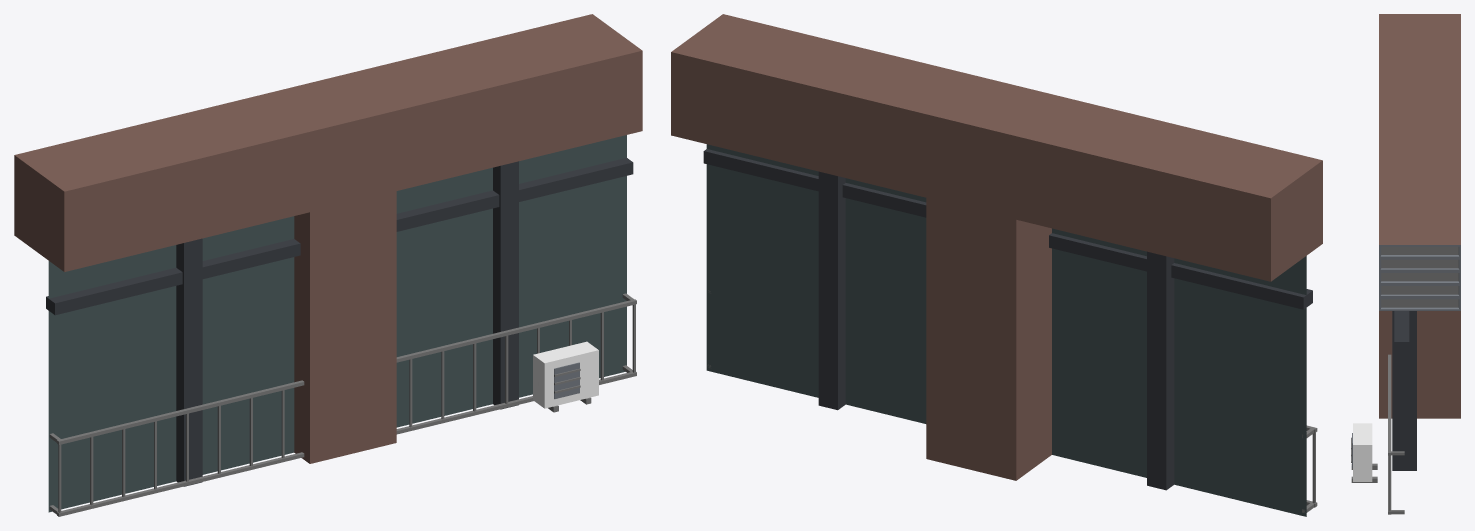
Rendered from mid-w1_close.fbx.
3 renders of one model, left to right at view 1: azimuth 30°, elevation 25°; view 2: azimuth 150°, elevation 25°; view 3: azimuth 270°, elevation 25°, orthographic. The views are drawn at different scales.
Parts seen in each view (by area): view 1: a2009.wall.006; view 2: a2009.wall.006; view 3: a2009.wall.006.
Part boxes in pixels (x1=…): a2009.wall.006: x1=14, y1=14, x2=642, y2=516; a2009.wall.006: x1=671, y1=14, x2=1322, y2=516; a2009.wall.006: x1=1351, y1=14, x2=1460, y2=514.
Bounding box in the file's own units: 8 × 4.39 × 1.61.
